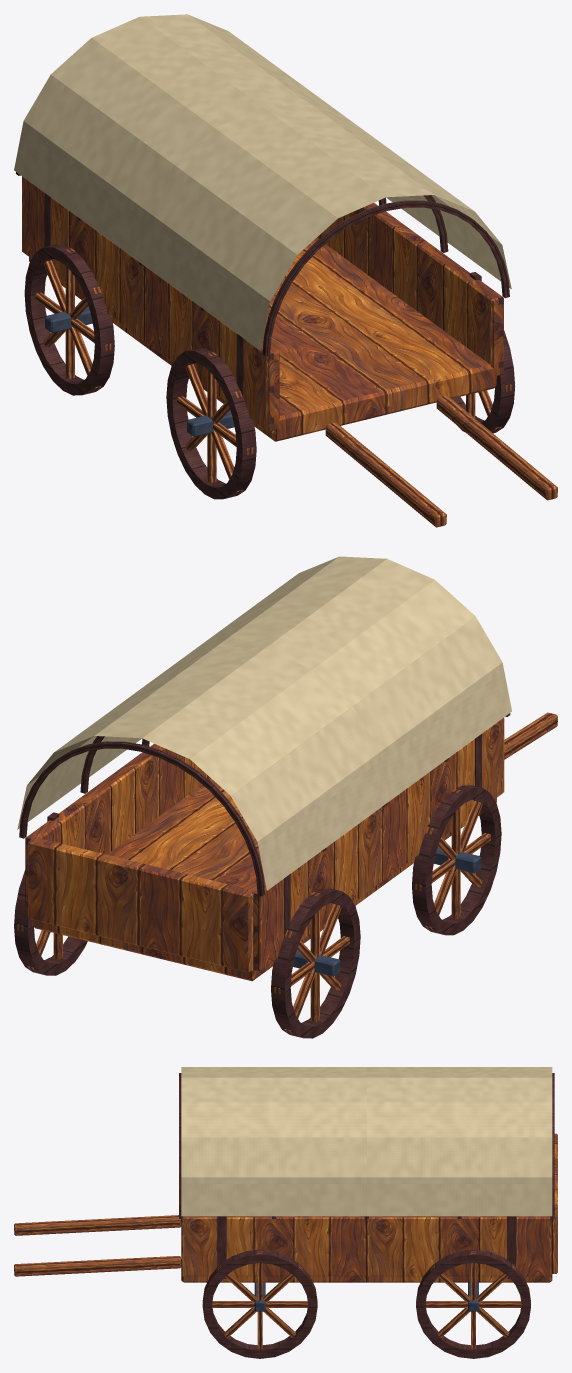
The model's file is Covered_Wagon.fbx.
3 views of the same model, one above another, from view 1: azimuth 30°, elevation 25°; view 2: azimuth 150°, elevation 25°; view 3: azimuth 270°, elevation 25° (orthographic). The views are drawn at different scales.
Parts seen in each view (by area): view 1: Wagon canvas, Wagon bed, Wagon left side, Wagon right side, Wagon wheel, Wagon wheel.002, Draw shaft, Draw shaft.001, Wagon wheel.001, Wheel spoke.009, Wheel spoke.001, Wheel spoke.010 (+3 smaller); view 2: Wagon canvas, Wagon tail, Wagon left side, Wagon bed, Wagon right side, Wagon wheel, Wagon wheel.002, Wagon wheel.003, Draw shaft, Wheel spoke.003, Wheel spoke.011, Wheel spoke.002 (+5 smaller); view 3: Wagon canvas, Wagon right side, Wagon wheel.001, Wagon wheel.003, Draw shaft.001, Draw shaft, Wagon bed, Wagon tail, Wheel spoke.004, Wheel spoke.012, Wheel spoke.007, Wheel spoke.005 (+6 smaller).
Part boxes in pixels (x1,y1,x2,y2): Wagon canvas: (14, 14, 511, 350); Wagon bed: (29, 238, 496, 441); Wagon left side: (22, 176, 279, 431); Wagon right side: (317, 203, 503, 376); Wagon wheel: (166, 348, 256, 499); Wagon wheel.002: (24, 244, 114, 395); Draw shaft: (325, 422, 446, 527); Draw shaft.001: (436, 395, 557, 500); Wagon wheel.001: (452, 330, 515, 433); Wheel spoke.009: (43, 260, 101, 390); Wheel spoke.001: (185, 364, 242, 493); Wheel spoke.010: (65, 248, 74, 379); Wagon canvas: (17, 556, 511, 890); Wagon tail: (28, 837, 254, 972); Wagon left side: (252, 717, 504, 971); Wagon bed: (32, 778, 496, 981); Wagon right side: (25, 743, 210, 914); Wagon wheel: (412, 785, 501, 935); Wagon wheel.002: (271, 888, 360, 1038); Wagon wheel.003: (14, 870, 87, 975); Draw shaft: (504, 712, 557, 759); Wheel spoke.003: (425, 801, 482, 929); Wheel spoke.011: (284, 904, 341, 1033); Wheel spoke.002: (451, 789, 460, 918); Wagon canvas: (181, 1067, 552, 1216); Wagon right side: (181, 1216, 552, 1276); Wagon wheel.001: (202, 1249, 317, 1358); Wagon wheel.003: (416, 1249, 530, 1358); Draw shaft.001: (14, 1256, 181, 1276); Draw shaft: (14, 1215, 181, 1235); Wagon bed: (181, 1275, 552, 1282); Wagon tail: (552, 1133, 557, 1273); Wheel spoke.004: (202, 1301, 317, 1307); Wheel spoke.012: (416, 1301, 530, 1307); Wheel spoke.007: (217, 1265, 295, 1337); Wheel spoke.005: (224, 1265, 302, 1337).
Size of the model in its own units: 270 by 272 by 586.
